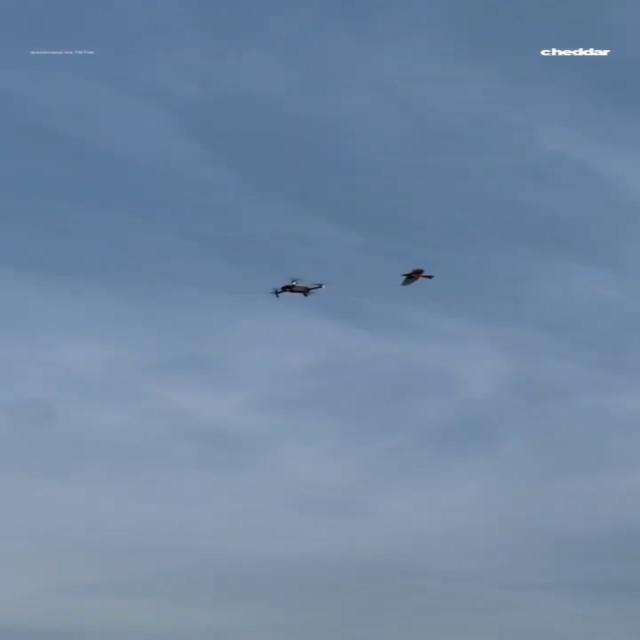bird: (399, 268, 434, 286)
drone: (270, 278, 324, 298)
